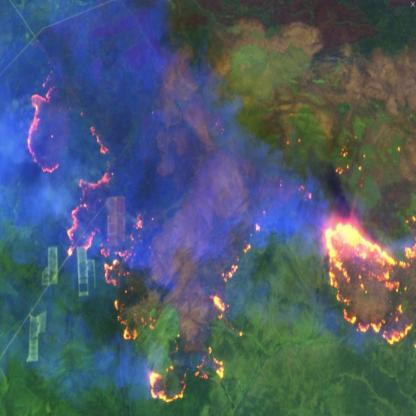fire: (64, 120, 158, 340), (316, 209, 416, 352), (142, 344, 233, 408), (23, 70, 62, 176)
